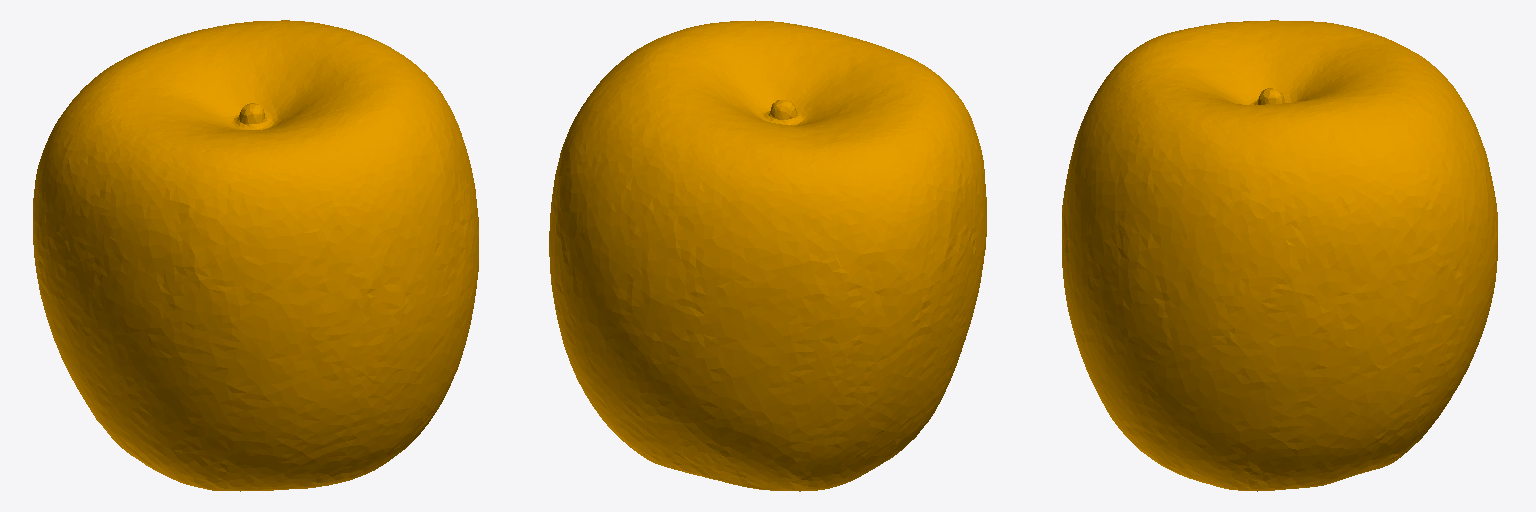
URDF robot description (block):
<robot name="block">
  <link name="block">
    <inertial>
      <origin xyz="0 0 0"/>    <!--"0.025 0.025 0.025"/>-->
      <mass value="0.1875" />
      <inertia  ixx="0.00006328125" ixy="0.0"  ixz="0.0"  iyy="0.00006328125"  iyz="0.0"  izz="0.00006328125" />
    </inertial>
    
    <visual>
      <origin xyz="0 0 0" rpy="1.5708 0 0"/>
      <geometry>
        <mesh filename="model://apple/meshes/apple.obj" scale="0.1 0.1 0.1"/>
      </geometry>
    </visual>

    <collision>
      <origin xyz="0 0 0"/>
      <geometry>
        <box size="0.045 0.045 0.045"/>
      </geometry>
    </collision>
  </link>

  <gazebo reference="block">
     <mu1>1000</mu1>
     <mu2>1000</mu2>
  </gazebo>

</robot>

--- Facts derived from the render (not from the file) ---
Views: 3 orthographic renders of the robot side by side, from view 1: azimuth 30°, elevation 25°; view 2: azimuth 150°, elevation 25°; view 3: azimuth 270°, elevation 25°.
Model block with 1 links and 0 joints (none), rooted at block, posed all joints at 0.
Visible links, largest first — view 1: block; view 2: block; view 3: block.
Boxes of the visible links, left/top/right/bottom form: block: left=33, top=20, right=478, bottom=491; block: left=549, top=20, right=986, bottom=491; block: left=1062, top=20, right=1497, bottom=491.
Bounding box of the posed robot: 0.0754 × 0.0749 × 0.0719 m (x, y, z).
1 mesh visuals loaded from 1 distinct referenced files (1 OBJ).